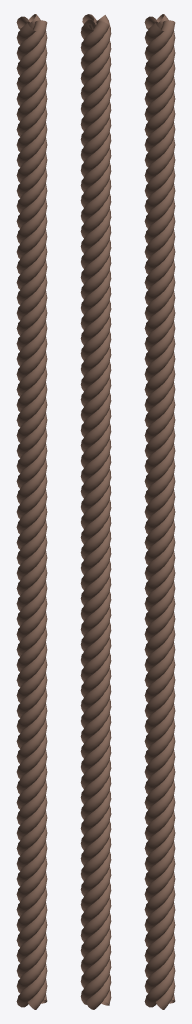
Rendered from rope.fbx.
3 views of the same model, side by side, from view 1: azimuth 90°, elevation 25°; view 2: azimuth 150°, elevation 25°; view 3: azimuth 270°, elevation 25° (orthographic).
Parts seen in each view (by area): view 1: Circle; view 2: Circle; view 3: Circle.
Part boxes in pixels (left/top/right/bottom): Circle: left=16, top=14, right=47, bottom=1009; Circle: left=80, top=14, right=111, bottom=1009; Circle: left=144, top=14, right=175, bottom=1009.
Bounding box in the file's own units: 80.45 × 2848 × 80.45.
